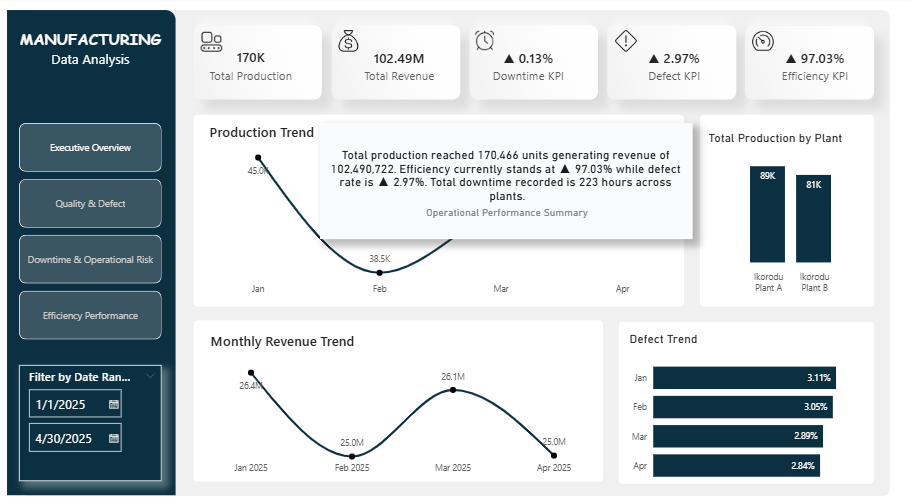

What the dashboard file says about the page in this screenshot:
{"tool":"powerbi","page":{"name":"Executive Overview","canvas":[1280,720],"ordinal":0},"visuals":[{"type":"cardVisual","fields":{"Data":["Manufacturing.Total Production"]},"box":[264.1,50.5,181.8,90.9],"z":0},{"type":"cardVisual","fields":{"Data":["Manufacturing.Total Revenue"]},"box":[476.2,40.4,171.7,112.6],"z":1000},{"type":"lineChart","title":"Production Trend","fields":{"Y":["Manufacturing.Total Production"],"Category":["Date_Table.Month Name"]},"box":[292.2,176.2,653.9,250.4],"z":2000},{"type":"barChart","title":"Defect Trend","fields":{"Category":["Date_Table.Month Name"],"Y":["Manufacturing.Defect Rate (%)"]},"box":[877.7,467.4,371.2,224.7],"z":3000},{"type":"columnChart","fields":{"Category":["Manufacturing.Plant"],"Y":["Manufacturing.Total Production"]},"box":[987.9,187,241.4,234.4],"z":4000},{"type":"cardVisual","fields":{"Data":["Manufacturing.Defect KPI"]},"box":[861.5,40.4,168.8,111.1],"z":5000},{"type":"cardVisual","fields":{"Data":["Manufacturing.Downtime KPI"]},"box":[646.5,39,191.9,114],"z":6000},{"type":"cardVisual","fields":{"Data":["Manufacturing.Efficiency KPI"]},"box":[1053.4,40.4,176.1,111.1],"z":7000},{"type":"textbox","box":[11.2,20.9,238.6,100.5],"z":8000},{"type":"slicer","fields":{"Values":["Date_Table.Date"]},"box":[30.6,513,199,162],"z":9000},{"type":"pageNavigator","box":[30.7,176.3,199.3,302.8],"z":10000},{"type":"bookmarkNavigator","box":[0,0,600,50],"z":11000},{"type":"lineChart","title":"Monthly Revenue Trend","fields":{"Category":["Date_Table.Month Year"],"Y":["Manufacturing.Total Revenue"]},"box":[293,467.4,545.6,207.9],"z":12000},{"type":"card","fields":{"Values":["Manufacturing.Executive Summary Insight"]},"box":[450.7,175.8,520.5,161.9],"z":13000}]}

Visuals, with their boxes in screenshot pixels (x1, y1, x2, y2), scaled from the page's 1280x720 canvas onto the 911x503 screenshot:
cardVisual - Manufacturing.Total Production: 188,35,317,99
cardVisual - Manufacturing.Total Revenue: 339,28,461,107
"Production Trend" lineChart: 208,123,673,298
"Defect Trend" barChart: 625,327,889,484
columnChart - Manufacturing.Plant x Manufacturing.Total Production: 703,131,875,294
cardVisual - Manufacturing.Defect KPI: 613,28,733,106
cardVisual - Manufacturing.Downtime KPI: 460,27,597,107
cardVisual - Manufacturing.Efficiency KPI: 750,28,875,106
textbox: 8,15,178,85
slicer - Date_Table.Date: 22,358,163,472
pageNavigator: 22,123,164,335
bookmarkNavigator: 0,0,427,35
"Monthly Revenue Trend" lineChart: 209,327,597,472
card - Manufacturing.Executive Summary Insight: 321,123,691,236
